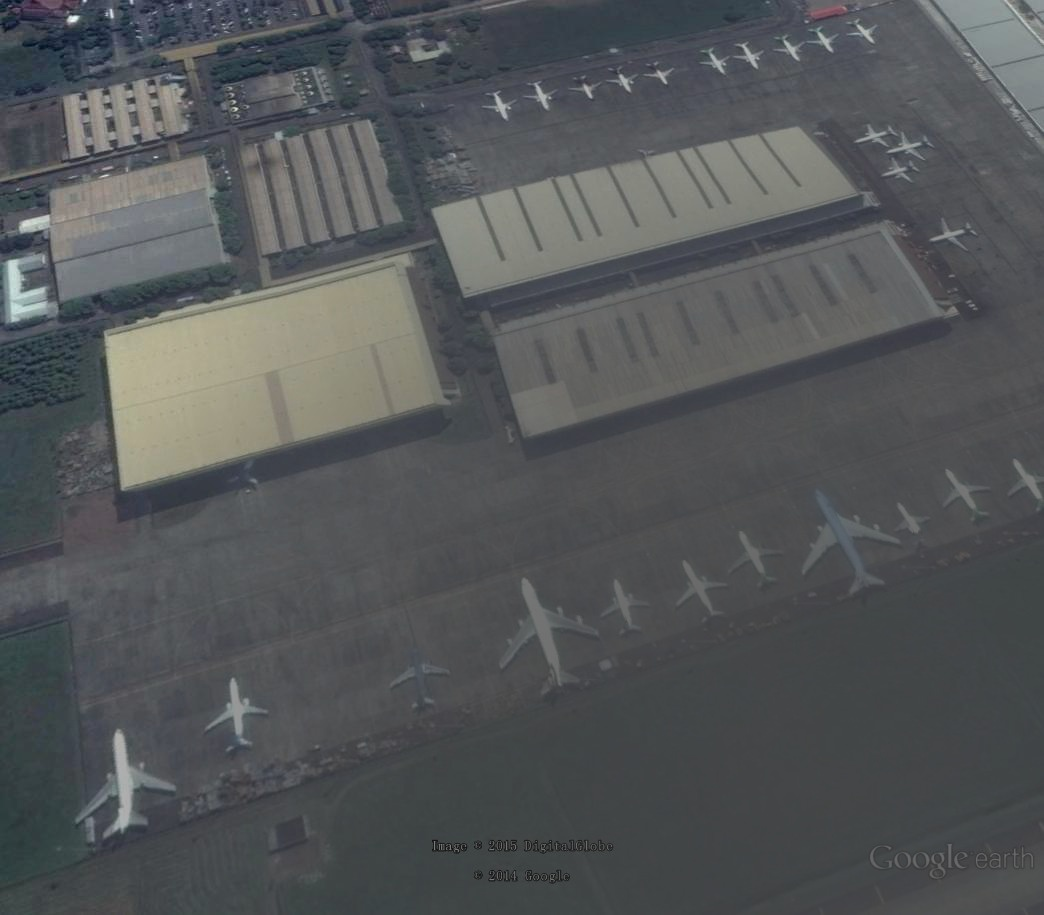aircraft: (496, 576, 604, 701), (72, 727, 182, 844), (799, 486, 905, 599), (203, 677, 273, 754), (385, 643, 456, 714), (674, 557, 732, 627), (725, 529, 786, 591), (598, 576, 654, 638), (938, 467, 993, 527), (1002, 457, 1043, 513), (927, 214, 982, 253), (884, 128, 937, 165), (892, 500, 933, 539), (880, 155, 923, 189), (521, 78, 559, 116), (481, 89, 521, 125), (854, 121, 901, 151), (841, 15, 885, 47), (605, 62, 643, 96), (695, 47, 733, 81), (729, 41, 770, 72), (565, 72, 606, 102), (639, 57, 677, 89), (806, 24, 841, 57), (771, 34, 808, 65)
